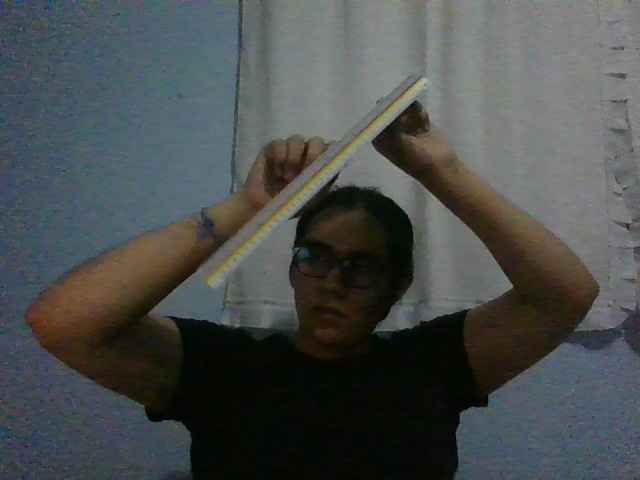regla: (195, 72, 430, 291)
